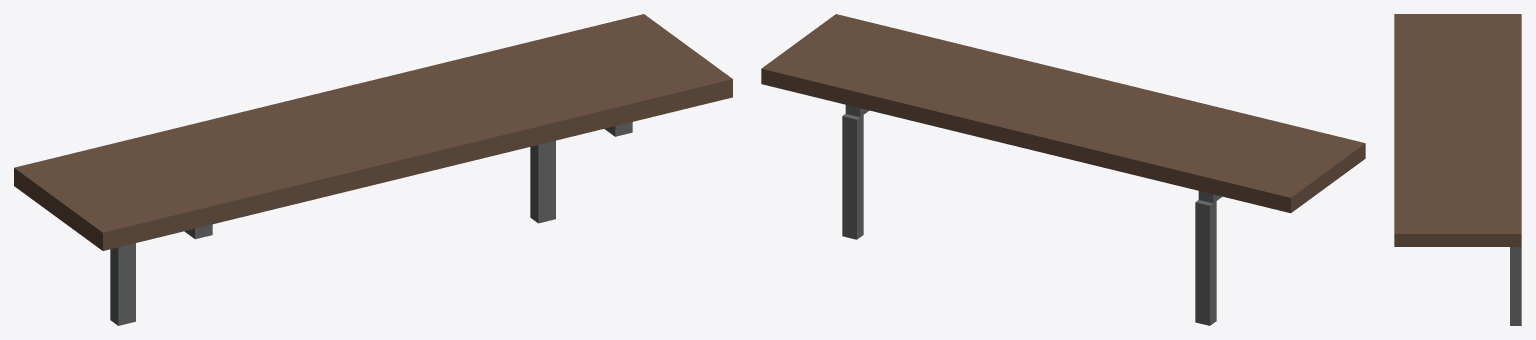
The model's file is wall-shelf.glb.
The picture shows the model from 3 angles, left to right: view 1: azimuth 30°, elevation 25°; view 2: azimuth 150°, elevation 25°; view 3: azimuth 270°, elevation 25°; orthographic projection. The views are drawn at different scales.
Parts seen in each view (by area): view 1: wood, metal; view 2: wood, metal; view 3: wood, metal.
Part boxes in pixels (x1,y1,x2,y2): wood: (14,14,732,250); metal: (110,122,632,325); wood: (761,14,1365,213); metal: (842,105,1221,325); wood: (1394,14,1521,246); metal: (1510,247,1521,325).
Bounding box in the file's own units: 0.9 × 0.24 × 0.22.
